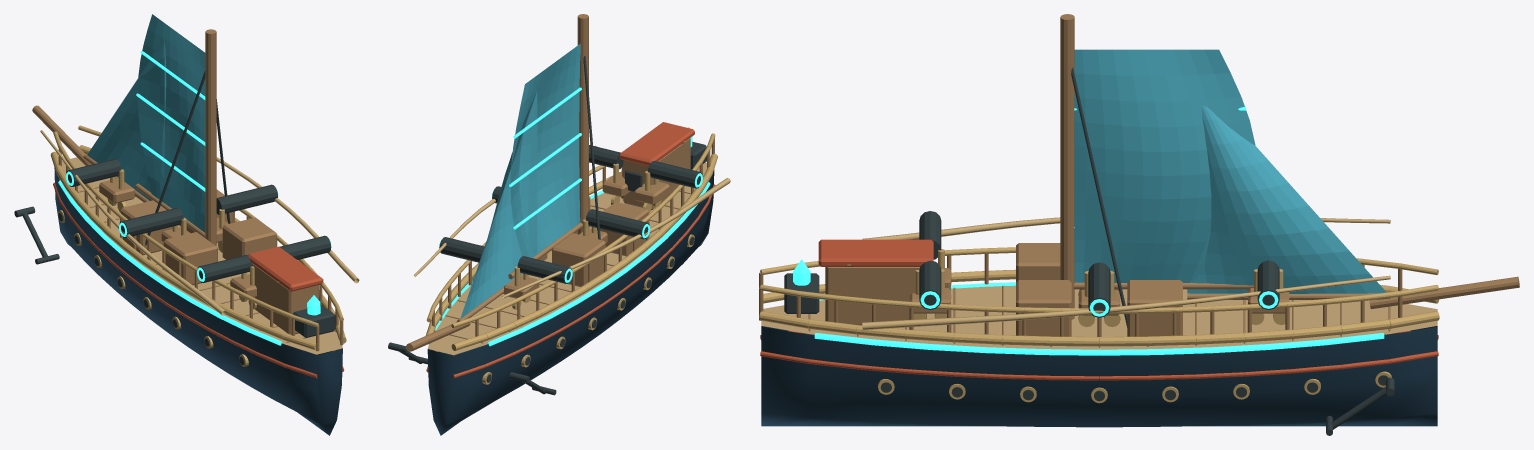
File: ship_combat_cutter.glb
3 views of the same model, side by side, from view 1: azimuth 30°, elevation 25°; view 2: azimuth 150°, elevation 25°; view 3: azimuth 270°, elevation 25° (orthographic). The views are drawn at different scales.
Parts seen in each view (by area): view 1: ship_combat_cutter; view 2: ship_combat_cutter; view 3: ship_combat_cutter.
Boxes of the visible parts, x1,y1,x2,y2 form: ship_combat_cutter: (14, 14, 359, 435); ship_combat_cutter: (388, 14, 730, 435); ship_combat_cutter: (759, 14, 1519, 435).
Size of the model in its own units: 2.87 by 5.68 by 9.56.
